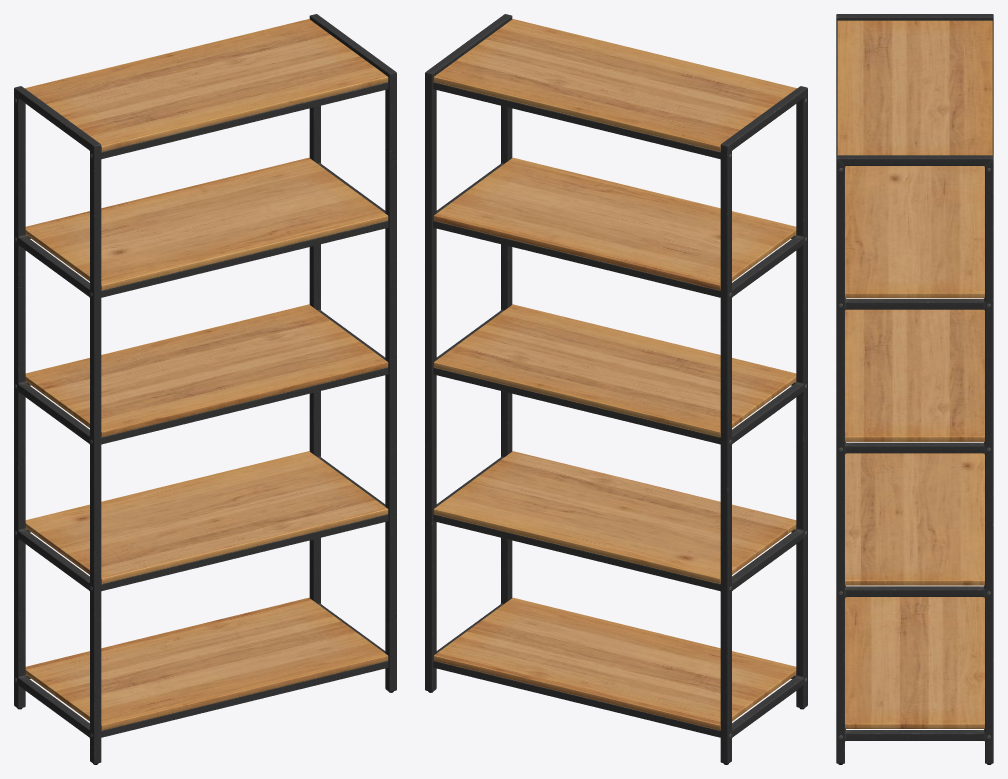
The model's file is steel_shelves.glb.
3 renders of one model, left to right at view 1: azimuth 30°, elevation 25°; view 2: azimuth 150°, elevation 25°; view 3: azimuth 270°, elevation 25°, orthographic. The views are drawn at different scales.
Visible parts, largest first — view 1: steel_frame_shelves_01; view 2: steel_frame_shelves_01; view 3: steel_frame_shelves_01.
Boxes of the visible parts, x1=… form: steel_frame_shelves_01: x1=14, y1=14, x2=396, y2=764; steel_frame_shelves_01: x1=425, y1=14, x2=807, y2=764; steel_frame_shelves_01: x1=836, y1=14, x2=993, y2=764.
Size of the model in its own units: 1.1 by 2.14 by 0.5021.
Materials: 1 (1 with a texture image).
